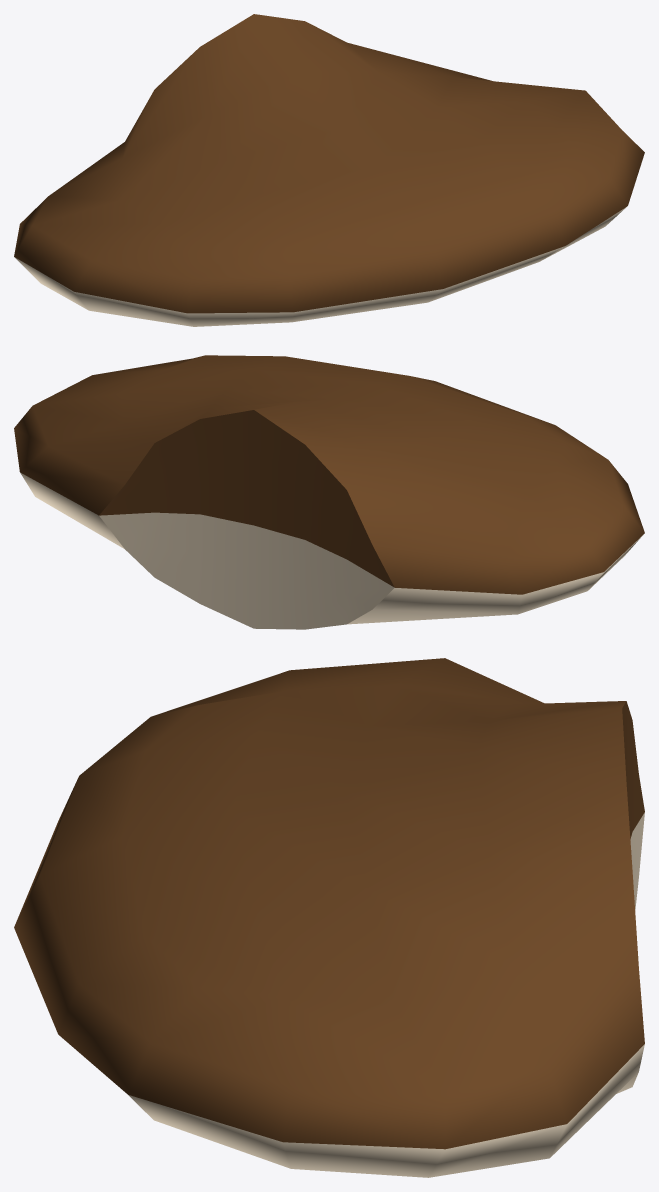
Rendered from Artists_Conk_Big.glb.
3 renders of one model, top to bottom at view 1: azimuth 30°, elevation 25°; view 2: azimuth 150°, elevation 25°; view 3: azimuth 270°, elevation 25°, orthographic. The views are drawn at different scales.
Parts seen in each view (by area): view 1: Artists_Conk_Big; view 2: Artists_Conk_Big; view 3: Artists_Conk_Big.
Part boxes in pixels (x1,y1,x2,y2): Artists_Conk_Big: (14, 14, 644, 326); Artists_Conk_Big: (14, 355, 644, 629); Artists_Conk_Big: (14, 658, 644, 1177).
Bounding box in the file's own units: 0.7616 × 0.2704 × 0.4392.
Materials: 1 (1 with a texture image).
